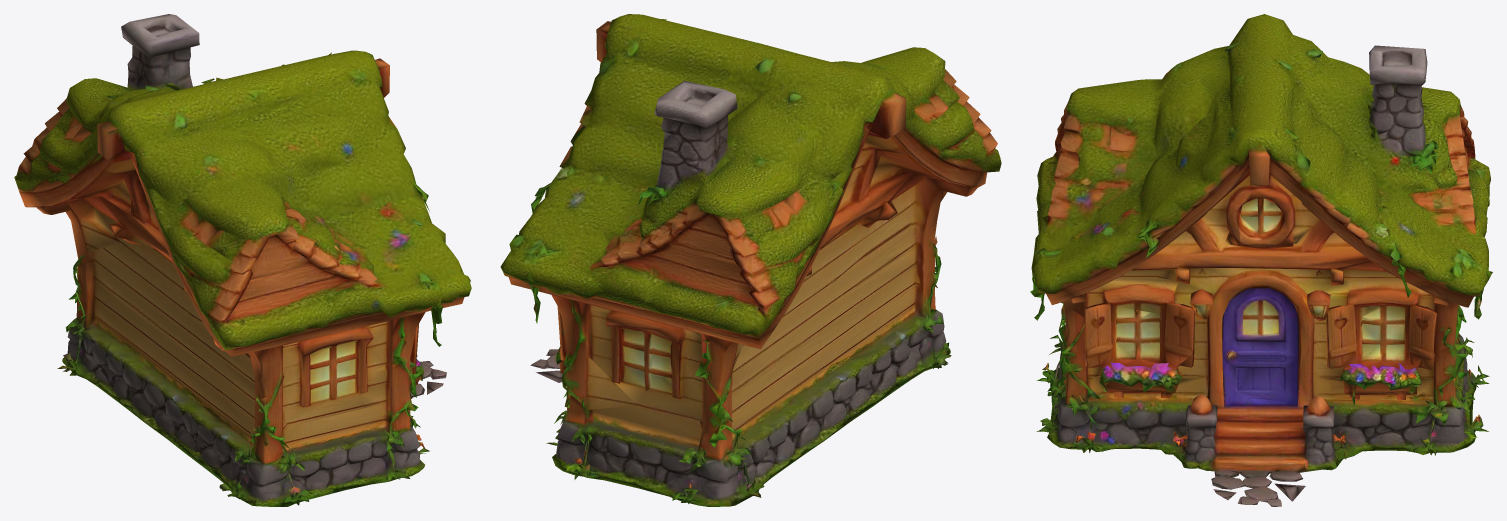
Rendered from cabin.glb.
3 views of the same model, side by side, from view 1: azimuth 30°, elevation 25°; view 2: azimuth 150°, elevation 25°; view 3: azimuth 270°, elevation 25° (orthographic). The views are drawn at different scales.
Visible parts, largest first — view 1: tripo_node_53b18c75-fedd-400d-91b3-babc7d0c1f0c; view 2: tripo_node_53b18c75-fedd-400d-91b3-babc7d0c1f0c; view 3: tripo_node_53b18c75-fedd-400d-91b3-babc7d0c1f0c.
Part boxes in pixels (<box>): tripo_node_53b18c75-fedd-400d-91b3-babc7d0c1f0c: <box>14,14,471,506</box>; tripo_node_53b18c75-fedd-400d-91b3-babc7d0c1f0c: <box>500,14,1001,506</box>; tripo_node_53b18c75-fedd-400d-91b3-babc7d0c1f0c: <box>1030,14,1492,506</box>.
Size of the model in its own units: 0.6624 by 0.65 by 0.7868.
1 material, 1 textured.
